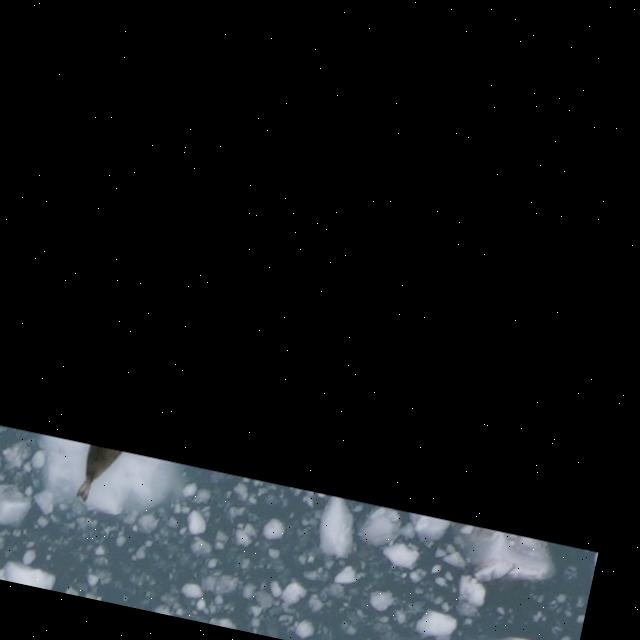seal: (72, 445, 121, 509)
